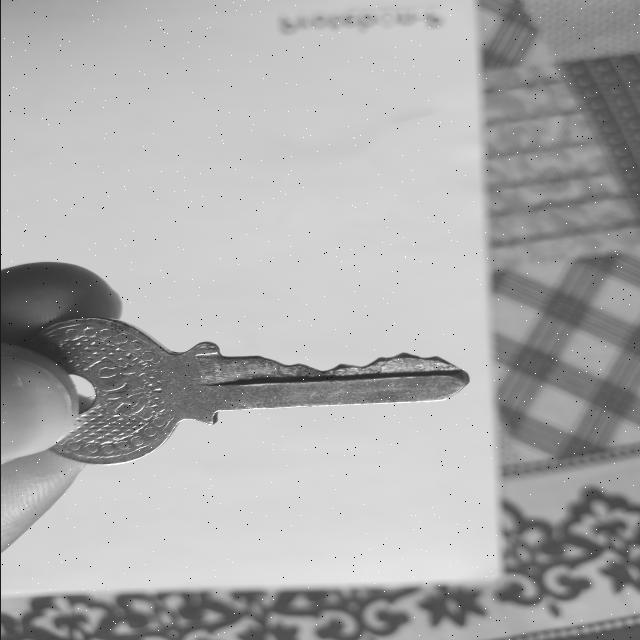key: (28, 318, 467, 465)
